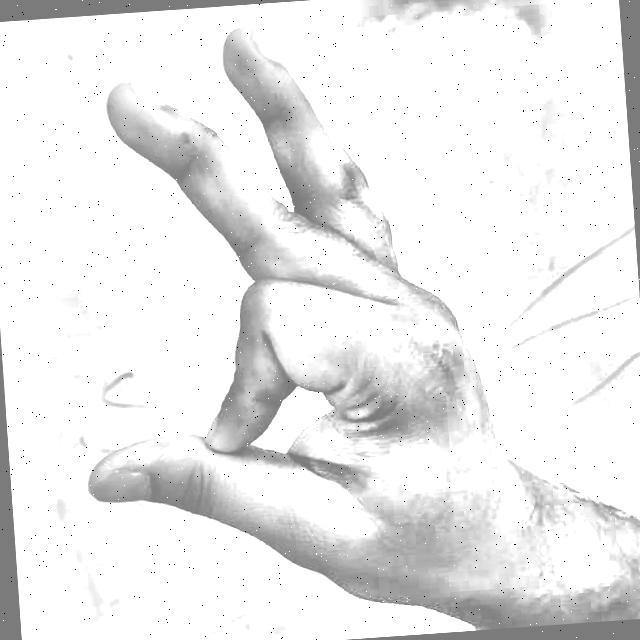Uo: (19, 0, 600, 639)
